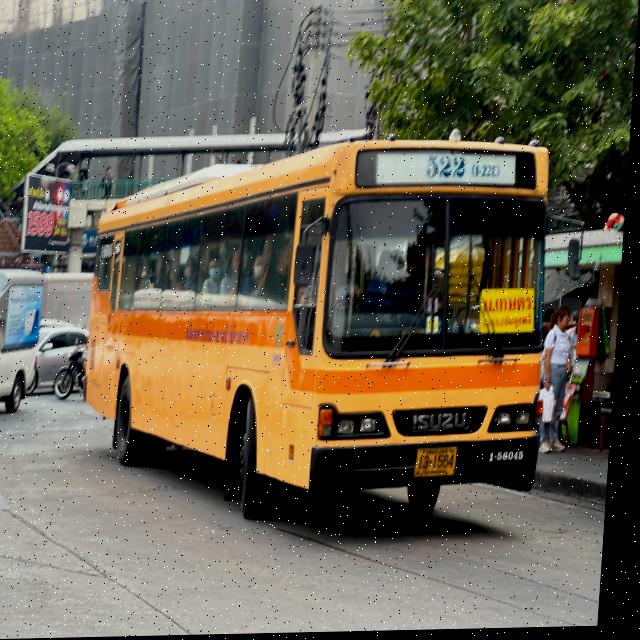BMTA-bus: (68, 124, 569, 544)
Bus Line Number: (419, 149, 510, 188)
Bus Side Number: (493, 450, 532, 467)
Destination Sign: (485, 287, 541, 334)
